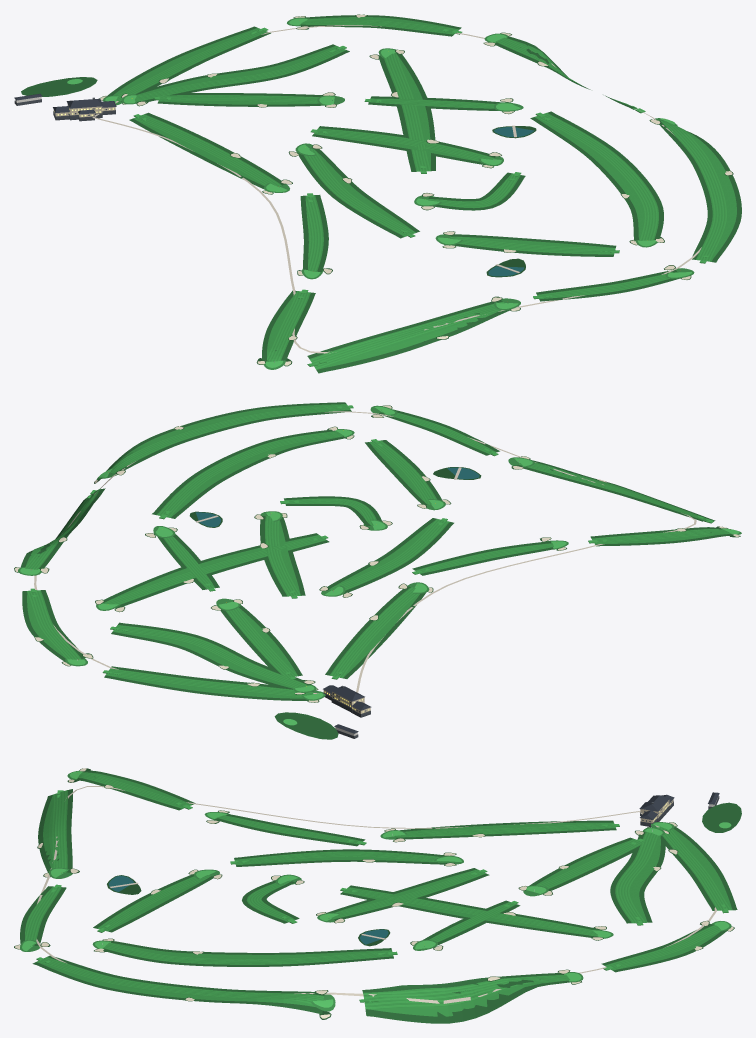
File: doi_cu_golf_18holes_T_E00_N00.glb
The picture shows the model from 3 angles, top to bottom: view 1: azimuth 30°, elevation 25°; view 2: azimuth 150°, elevation 25°; view 3: azimuth 270°, elevation 25°; orthographic projection. The views are drawn at different scales.
Visible parts, largest first — view 1: DoiCu_18_Fairways_Bentgrass_Plus012m, DoiCu_SemiRough_Aprons, DoiCu_18_Putting_Greens, DoiCu_18_Green_Fringes, DoiCu_Bunker_Lips, DoiCu_44_Sand_Bunkers, DoiCu_Cart_Paths_And_Bridges, DoiCu_18_Tee_Boxes, DoiCu_Clubhouse_MansardRoof; view 2: DoiCu_18_Fairways_Bentgrass_Plus012m, DoiCu_SemiRough_Aprons, DoiCu_18_Putting_Greens, DoiCu_18_Green_Fringes, DoiCu_44_Sand_Bunkers, DoiCu_Bunker_Lips, DoiCu_Cart_Paths_And_Bridges, DoiCu_18_Tee_Boxes, DoiCu_Clubhouse_MansardRoof; view 3: DoiCu_18_Fairways_Bentgrass_Plus012m, DoiCu_SemiRough_Aprons, DoiCu_18_Putting_Greens, DoiCu_Cart_Paths_And_Bridges, DoiCu_18_Green_Fringes, DoiCu_Bunker_Lips, DoiCu_44_Sand_Bunkers, DoiCu_18_Tee_Boxes, DoiCu_Clubhouse_MansardRoof, DoiCu_Water_Hazards_Blend.
Part boxes in pixels (<box>): DoiCu_18_Fairways_Bentgrass_Plus012m: <box>113,17,736,369</box>; DoiCu_SemiRough_Aprons: <box>21,15,741,373</box>; DoiCu_18_Putting_Greens: <box>67,18,691,367</box>; DoiCu_18_Green_Fringes: <box>103,17,694,369</box>; DoiCu_Bunker_Lips: <box>99,14,733,366</box>; DoiCu_44_Sand_Bunkers: <box>100,14,732,365</box>; DoiCu_Cart_Paths_And_Bridges: <box>92,25,701,353</box>; DoiCu_18_Tee_Boxes: <box>133,27,708,366</box>; DoiCu_Clubhouse_MansardRoof: <box>14,93,116,114</box>; DoiCu_18_Fairways_Bentgrass_Plus012m: <box>25,404,730,698</box>; DoiCu_SemiRough_Aprons: <box>21,402,732,739</box>; DoiCu_18_Putting_Greens: <box>20,406,739,725</box>; DoiCu_18_Green_Fringes: <box>18,405,741,700</box>; DoiCu_44_Sand_Bunkers: <box>15,405,739,702</box>; DoiCu_Bunker_Lips: <box>14,405,740,702</box>; DoiCu_Cart_Paths_And_Bridges: <box>34,411,696,693</box>; DoiCu_18_Tee_Boxes: <box>30,405,714,679</box>; DoiCu_Clubhouse_MansardRoof: <box>323,685,371,733</box>; DoiCu_18_Fairways_Bentgrass_Plus012m: <box>25,772,732,1016</box>; DoiCu_SemiRough_Aprons: <box>20,770,741,1023</box>; DoiCu_18_Putting_Greens: <box>22,771,731,1007</box>; DoiCu_Cart_Paths_And_Bridges: <box>36,786,716,1003</box>; DoiCu_18_Green_Fringes: <box>20,770,731,1011</box>; DoiCu_Bunker_Lips: <box>14,768,734,1019</box>; DoiCu_44_Sand_Bunkers: <box>15,768,733,1018</box>; DoiCu_18_Tee_Boxes: <box>36,790,728,1002</box>; DoiCu_Clubhouse_MansardRoof: <box>639,792,719,819</box>; DoiCu_Water_Hazards_Blend: <box>108,875,388,944</box>.
Bounding box in the file's own units: 658 × 42.72 × 767.
19 materials, 3 textured.
